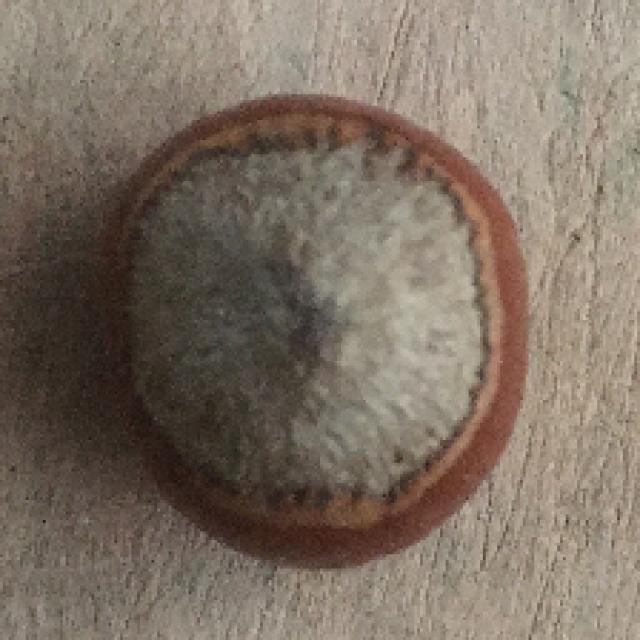qualityHazelnut: (92, 82, 534, 573)
